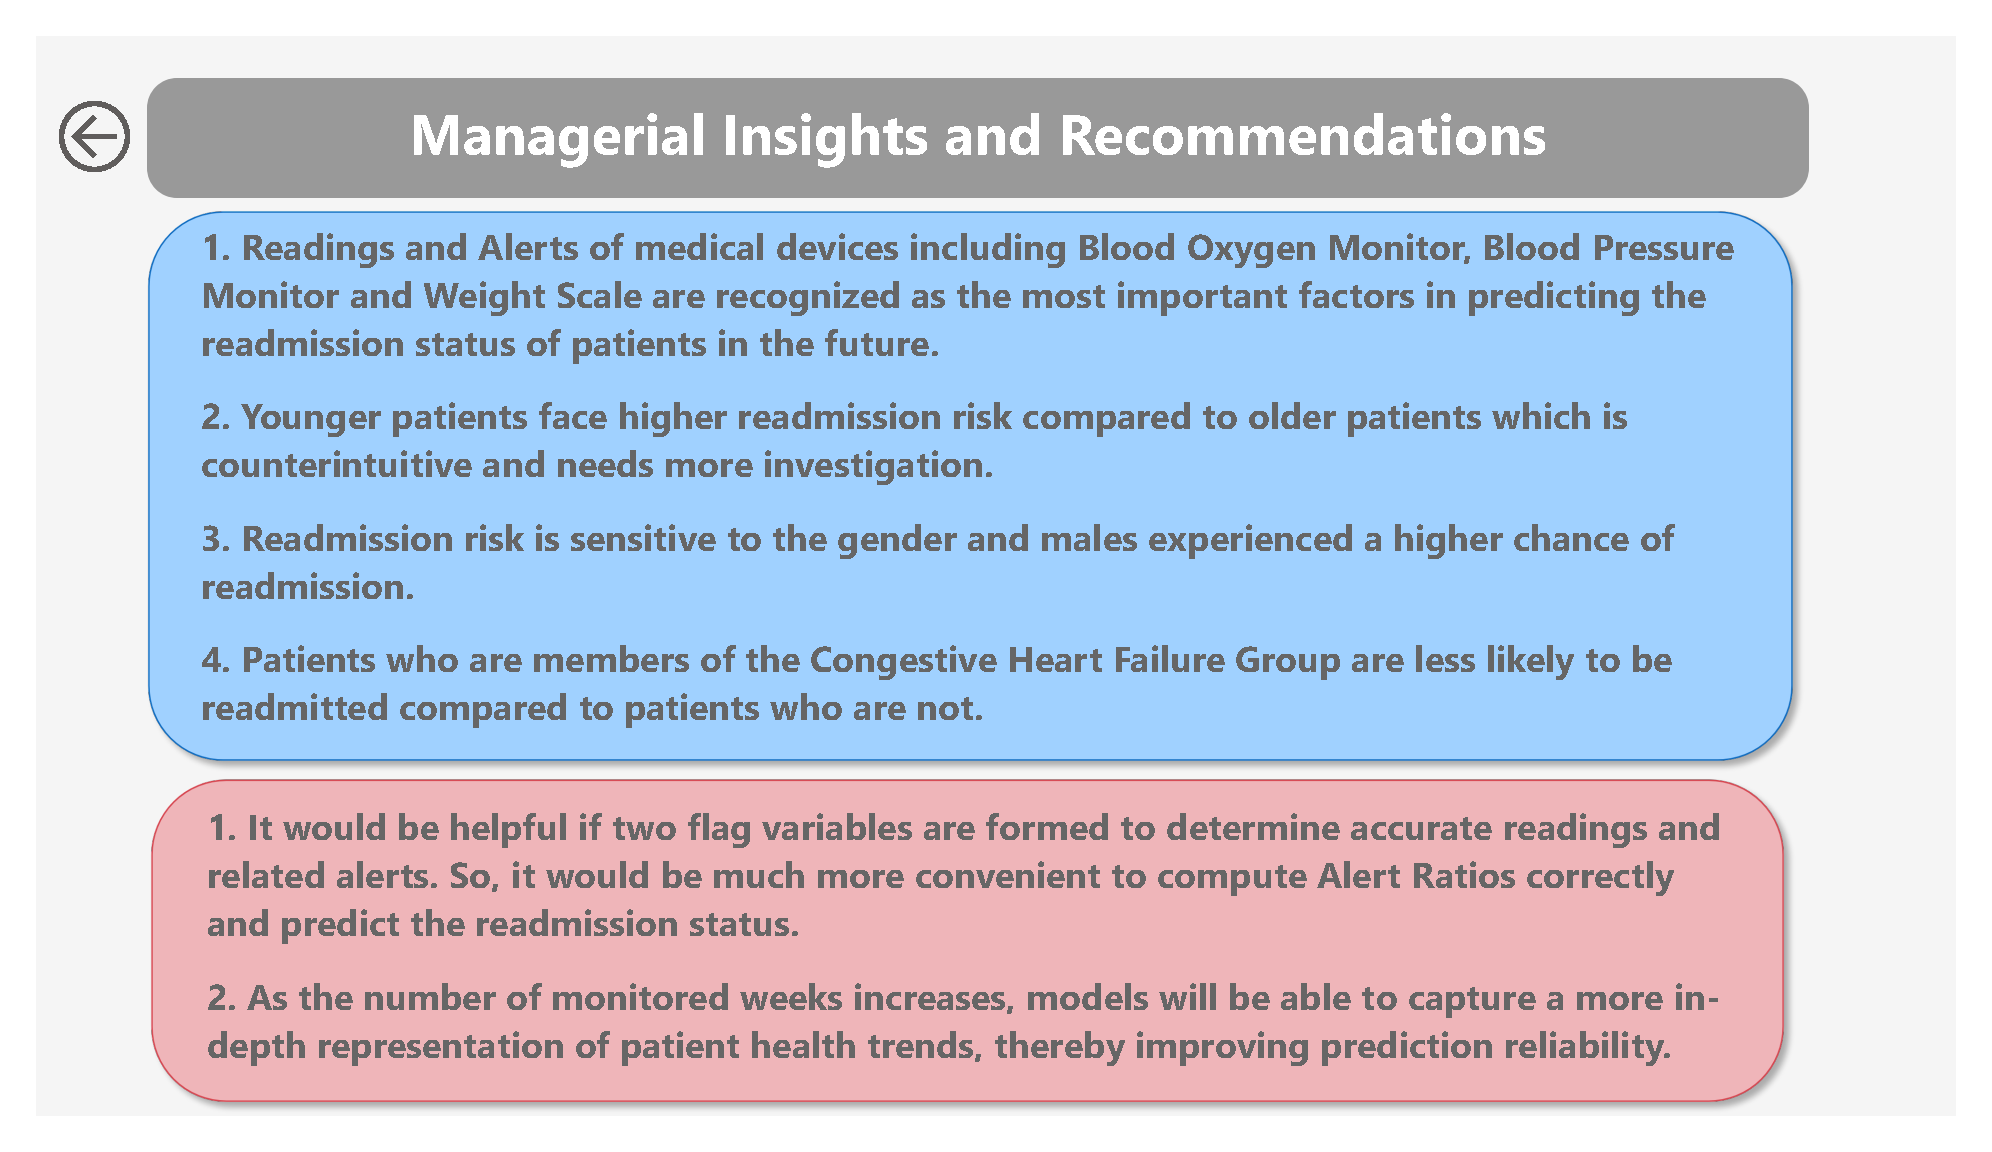

This screenshot's page, from the dashboard's own definition file:
{"tool":"powerbi","page":{"name":"Managerial Insights and Recommendations","canvas":[1280,720],"ordinal":5},"visuals":[{"type":"shape","title":"Background 2","box":[0,0,1280,719.5],"z":0},{"type":"shape","box":[65.8,107.8,1113.7,384.2],"z":0,"group":"g1"},{"type":"group","id":"g1","title":"Background 1","box":[65.8,28,1116.2,690.6],"z":1000},{"type":"shape","box":[67.9,487.1,1105.9,231.5],"z":1000,"group":"g1"},{"type":"shape","box":[74,28,1108,80],"z":2000,"group":"g1"},{"type":"textbox","box":[105,117.7,1036.8,368.6],"z":2000},{"type":"textbox","box":[108.9,504.8,1034.9,196.5],"z":3000},{"type":"textbox","box":[106,34,1044,68],"z":4000},{"type":"actionButton","box":[9,37.2,65.4,59.8],"z":5000}]}

Visuals, with their boxes in screenshot pixels (x1, y1, x2, y2), scaled from the page's 1280x720 canvas onto the 1992x1152 screenshot:
"Background 2" shape: (x1=0, y1=0, x2=1991, y2=1151)
shape: (x1=102, y1=172, x2=1836, y2=787)
"Background 1" group: (x1=102, y1=45, x2=1839, y2=1150)
shape: (x1=106, y1=779, x2=1827, y2=1150)
shape: (x1=115, y1=45, x2=1839, y2=173)
textbox: (x1=163, y1=188, x2=1777, y2=778)
textbox: (x1=169, y1=808, x2=1780, y2=1122)
textbox: (x1=165, y1=54, x2=1790, y2=163)
actionButton: (x1=14, y1=60, x2=116, y2=155)
